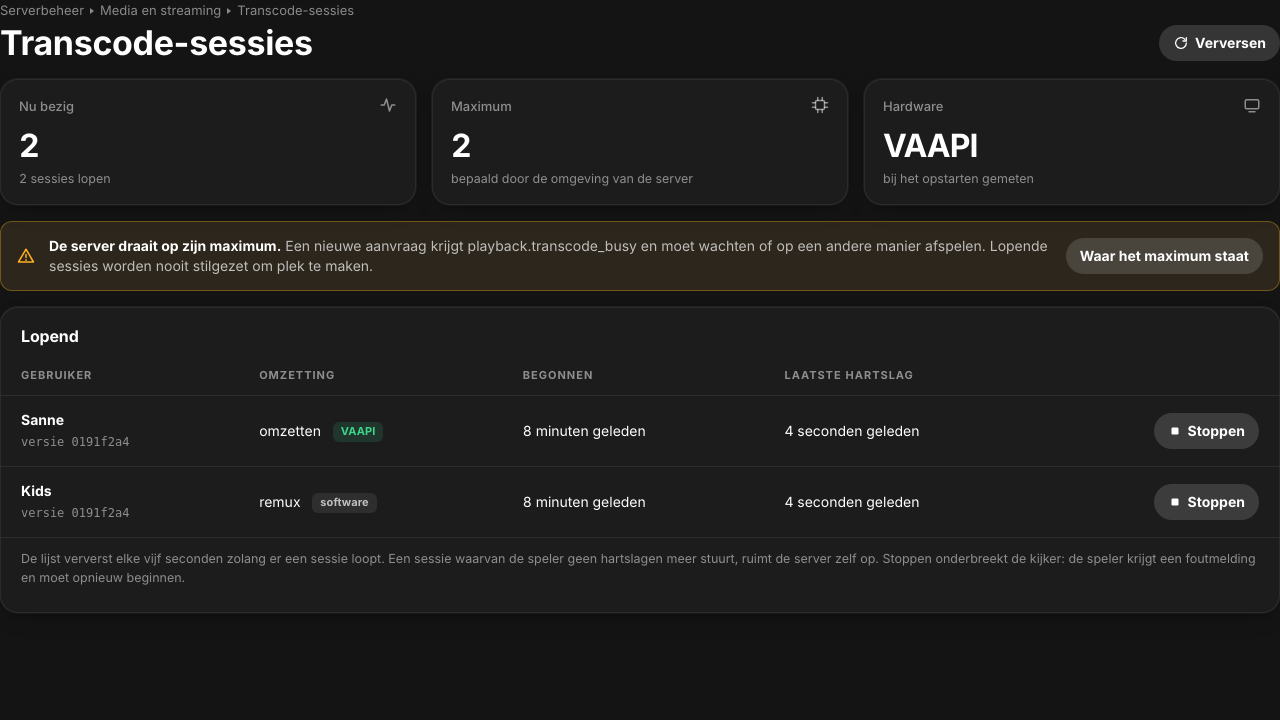
scherm 37, Stoppen › laat de lijst intact als de server weigert, met een zin en een uitweg
Click the button with aria-label "Transcodesessie van Sanne stoppen": (1206, 431) [1154,413,1259,449]
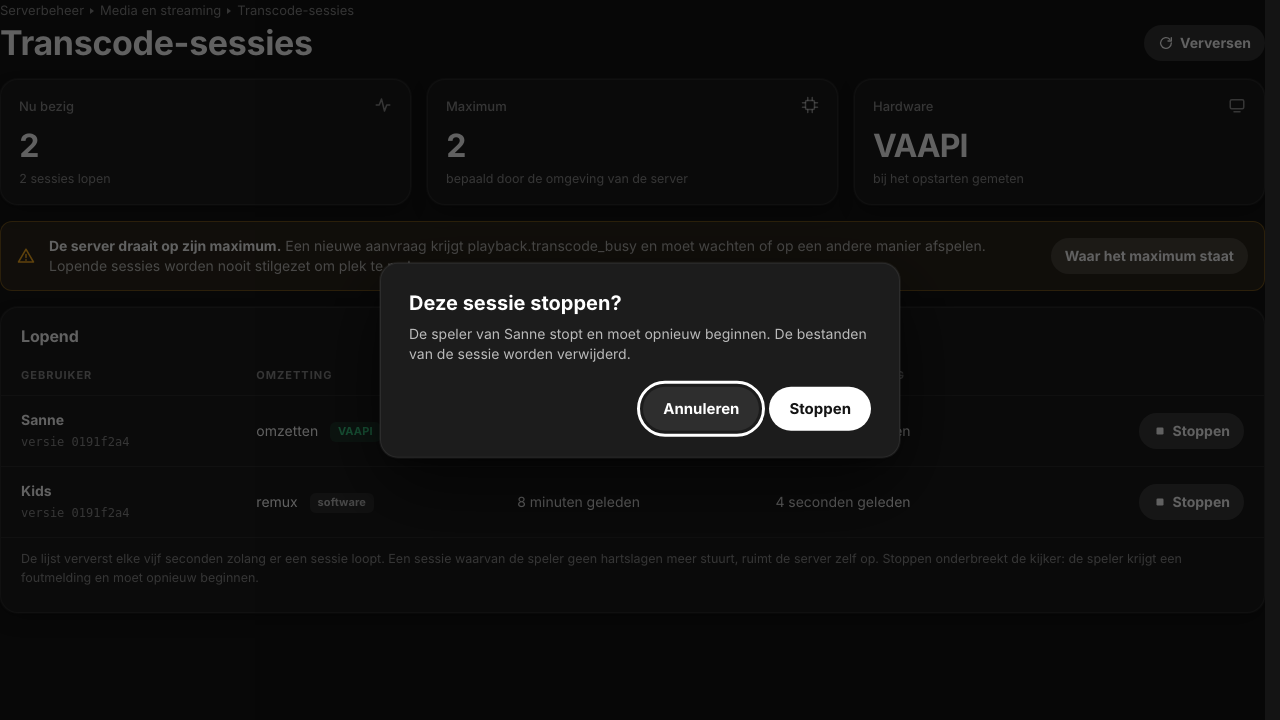
Click the button "Stoppen": (820, 408) [769,386,871,430]
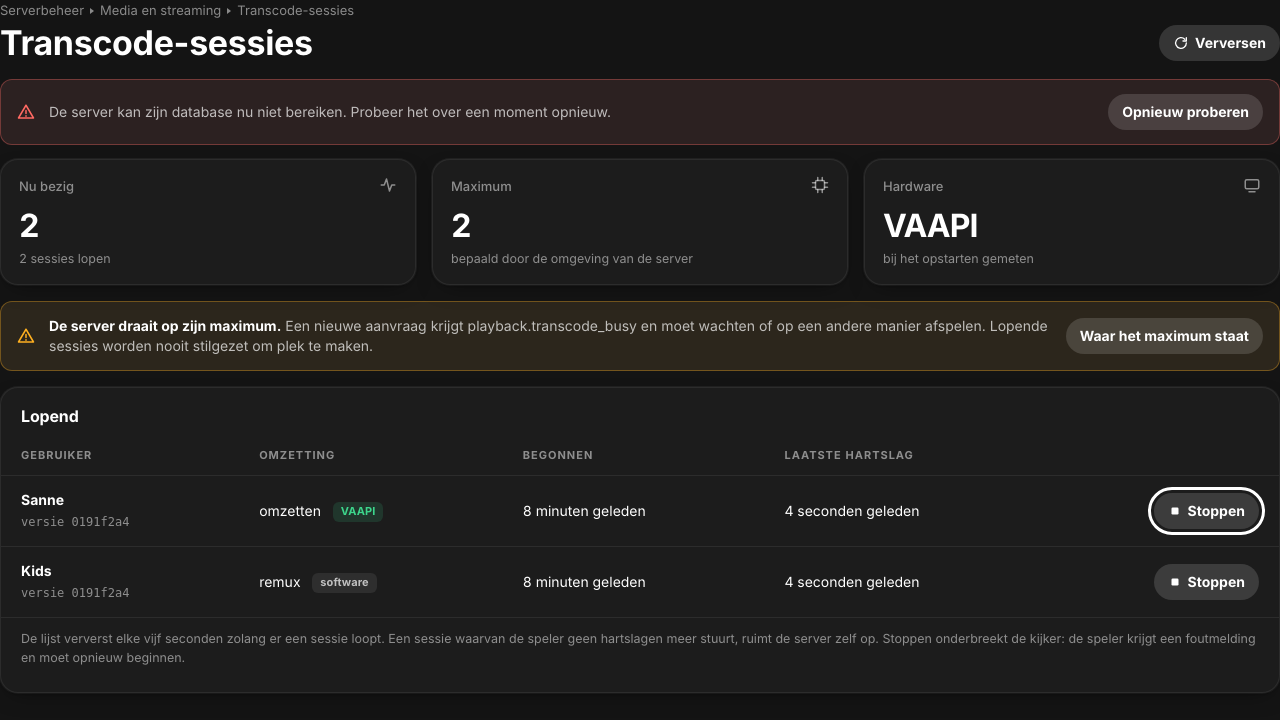
expect the text "Sanne" is shown: met, box [21,491,64,508]
expect the 1st message shows "database": met, box [49,103,611,120]
expect the button "Opnieuw proberen" is shown: met, box [1108,94,1263,130]
